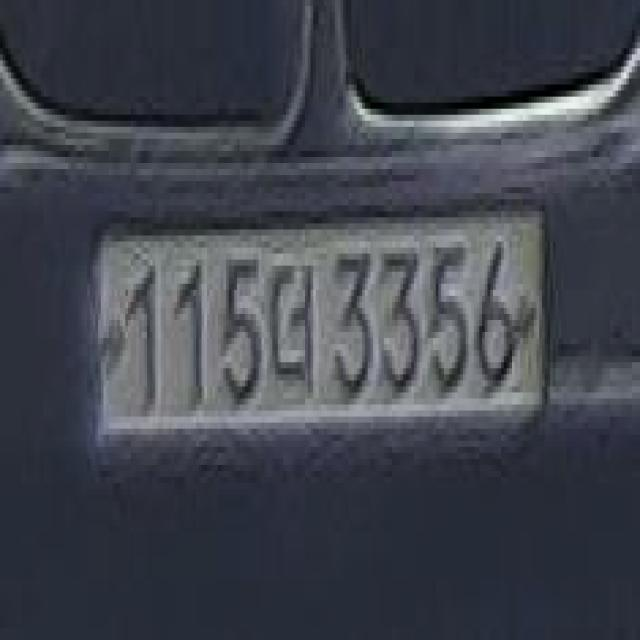illegal_plate: (93, 193, 548, 470)
